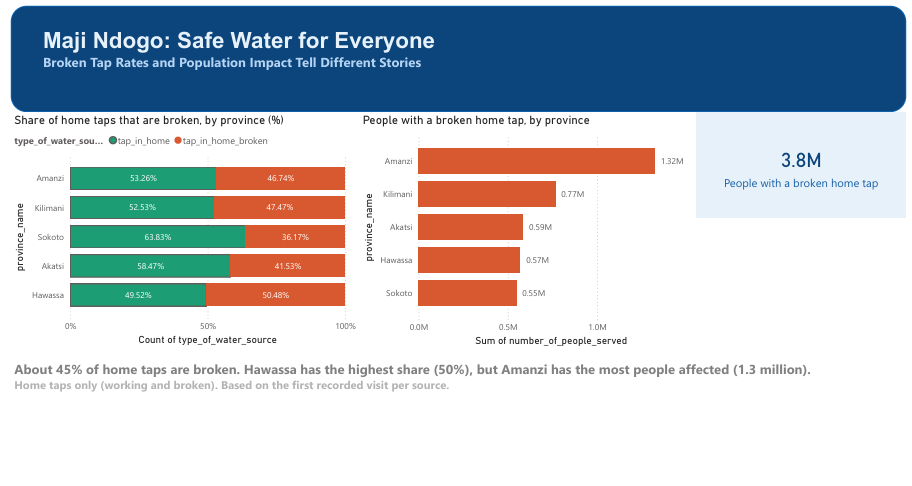

What the dashboard file says about the page in this screenshot:
{"tool":"powerbi","page":{"name":"Broken Taps","canvas":[1280,720],"ordinal":3},"visuals":[{"type":"shape","box":[0,0,1280.4,152.3],"z":0},{"type":"textbox","box":[40.8,26.3,1013.8,99.7],"z":1000},{"type":"hundredPercentStackedBarChart","title":"Share of home taps that are broken, by province (%)","fields":{"Category":["md_water_services combined_analysis_table.province_name"],"Series":["md_water_services combined_analysis_table.type_of_water_source"],"Y":["CountNonNull(md_water_services combined_analysis_table.type_of_water_source)"]},"box":[0,152.7,498,337.5],"z":3000},{"type":"clusteredBarChart","title":"People with a broken home tap, by province","fields":{"Category":["md_water_services combined_analysis_table.province_name"],"Y":["Sum(md_water_services combined_analysis_table.number_of_people_served)"]},"box":[498,152.7,482.7,338.1],"z":4000},{"type":"card","fields":{"Values":["Sum(md_water_services combined_analysis_table.number_of_people_served)"]},"box":[980.4,152.7,299.2,151.4],"z":5000},{"type":"textbox","box":[0,500.9,1149.7,85.6],"z":6000}]}

Visuals, with their boxes on the page's 1280x720 design canvas (x1, y1, x2, y2). These are canvas units, not pixel positions in the 912x486 screenshot, which may show the page scaled, cropped or inside an application window:
shape: (left=0, top=0, right=1280, bottom=152)
textbox: (left=41, top=26, right=1055, bottom=126)
"Share of home taps that are broken, by province (%)" hundredPercentStackedBarChart: (left=0, top=153, right=498, bottom=490)
"People with a broken home tap, by province" clusteredBarChart: (left=498, top=153, right=981, bottom=491)
card - Sum(md_water_services combined_analysis_table.number_of_people_served): (left=980, top=153, right=1280, bottom=304)
textbox: (left=0, top=501, right=1150, bottom=586)
